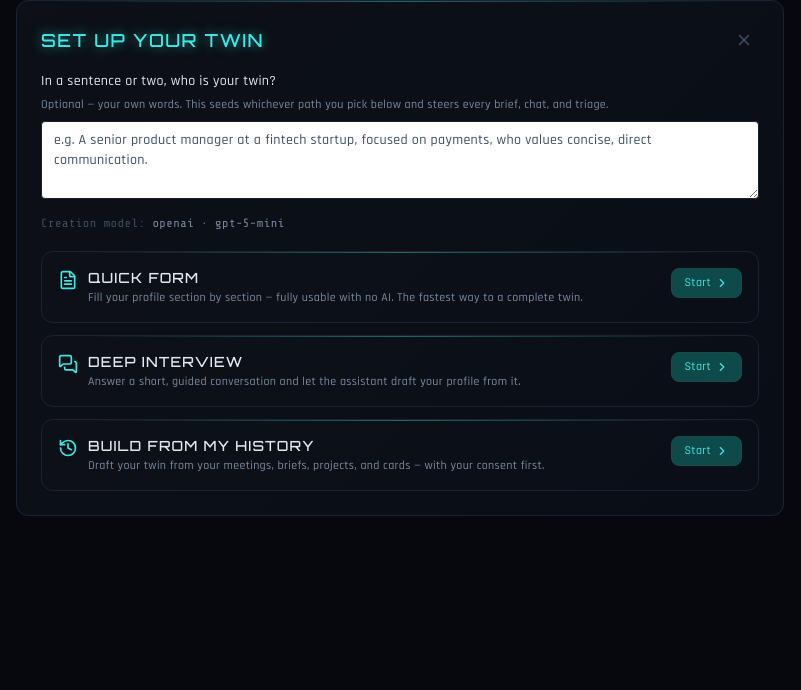
Test: TwinWizard — Quick form optional AI assist › does not overwrite a field the user already filled — the form is the source of truth
Click the button with aria-label "start quick form" at (707, 283), box x1=671 y1=268 x2=742 y2=298
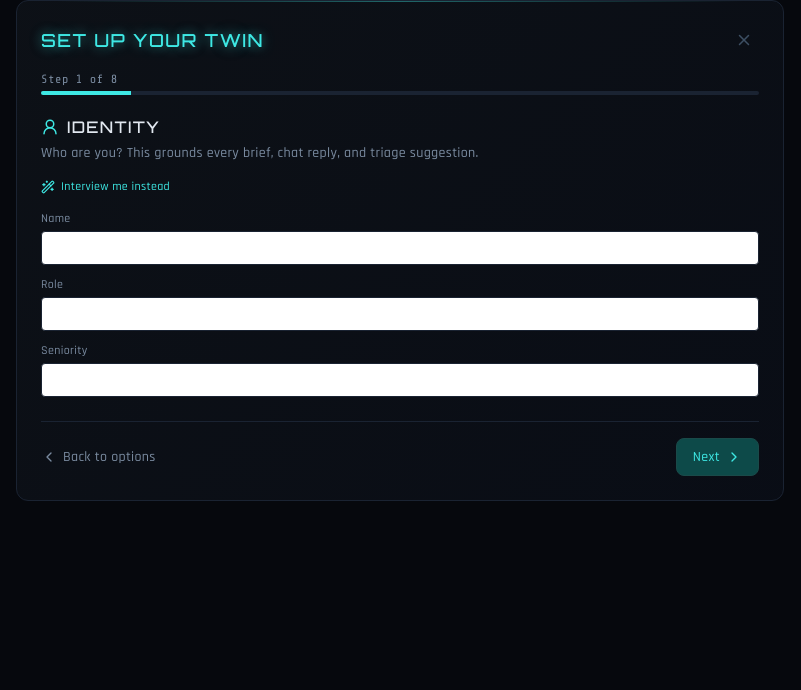
Type "Bob" into the field labelled "Name" at (400, 248), box x1=41 y1=231 x2=759 y2=265
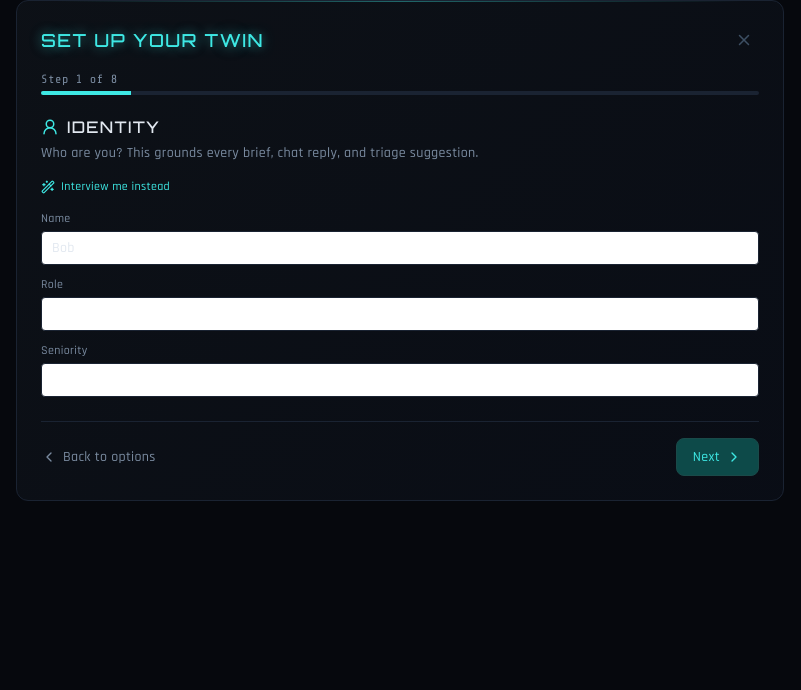
Click the button "Interview me instead" at (106, 187), box x1=41 y1=179 x2=170 y2=195
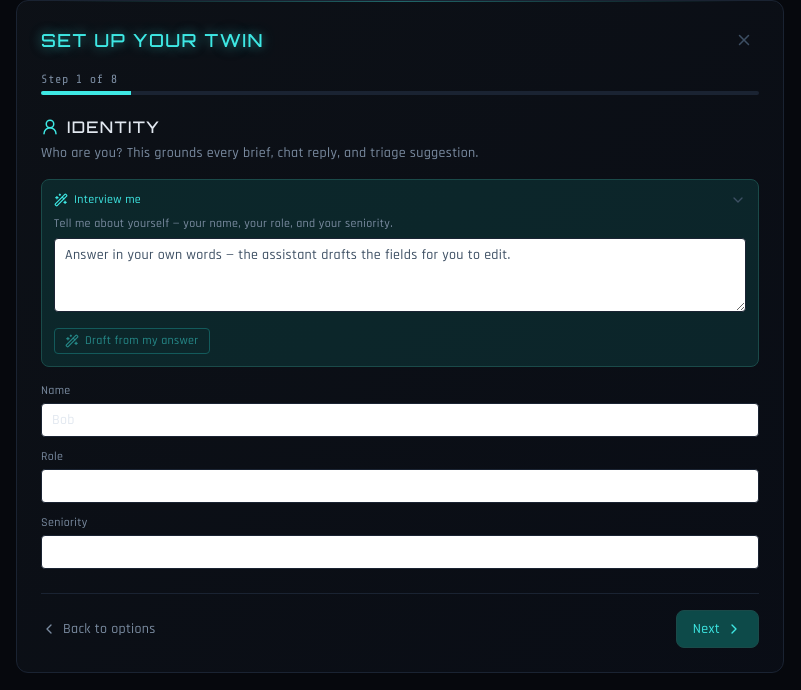
Replace the text in the text box with placeholder "Answer in your own words" with "about me" at (400, 275), box x1=54 y1=238 x2=746 y2=312
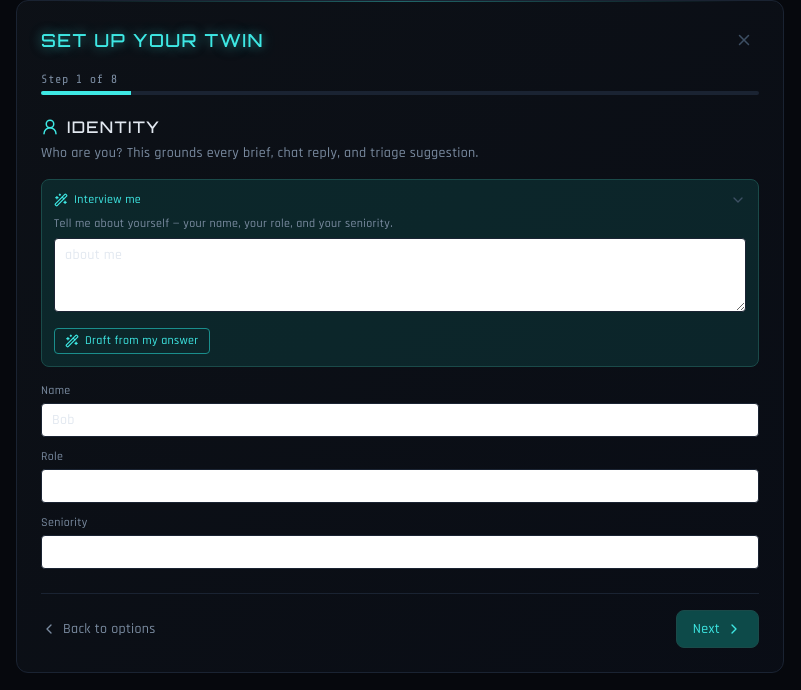
Click the button "Draft from my answer" at (132, 341), box x1=54 y1=328 x2=210 y2=354
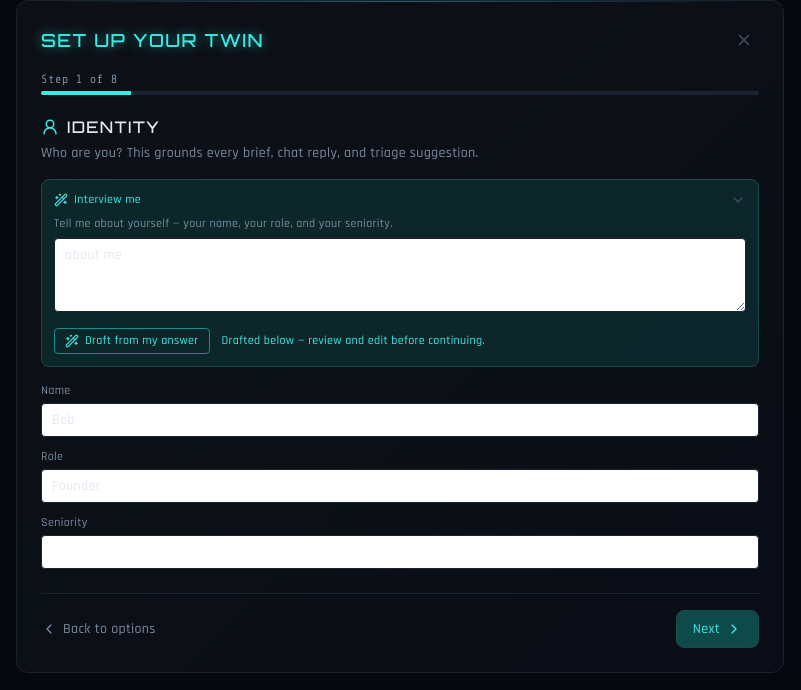
Check: the field showing "Founder" is shown, box x1=41 y1=469 x2=759 y2=503
